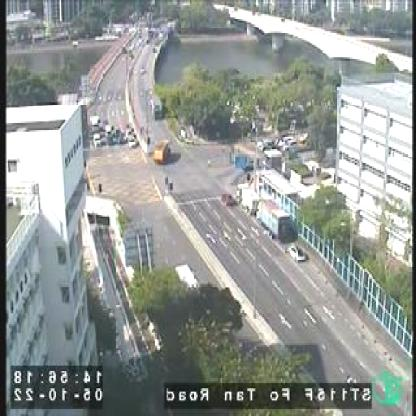Car: (288, 246, 306, 262), (223, 194, 236, 205), (94, 132, 102, 144), (128, 137, 138, 146)
Truck: (258, 198, 292, 239), (238, 182, 260, 213), (156, 139, 172, 163)
